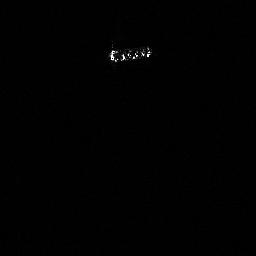ship: (104, 40, 155, 67)
